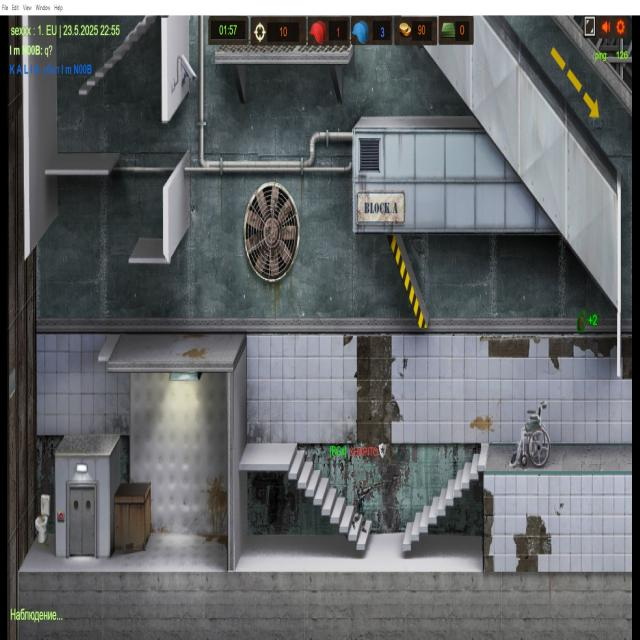enemy: (352, 476, 373, 540)
